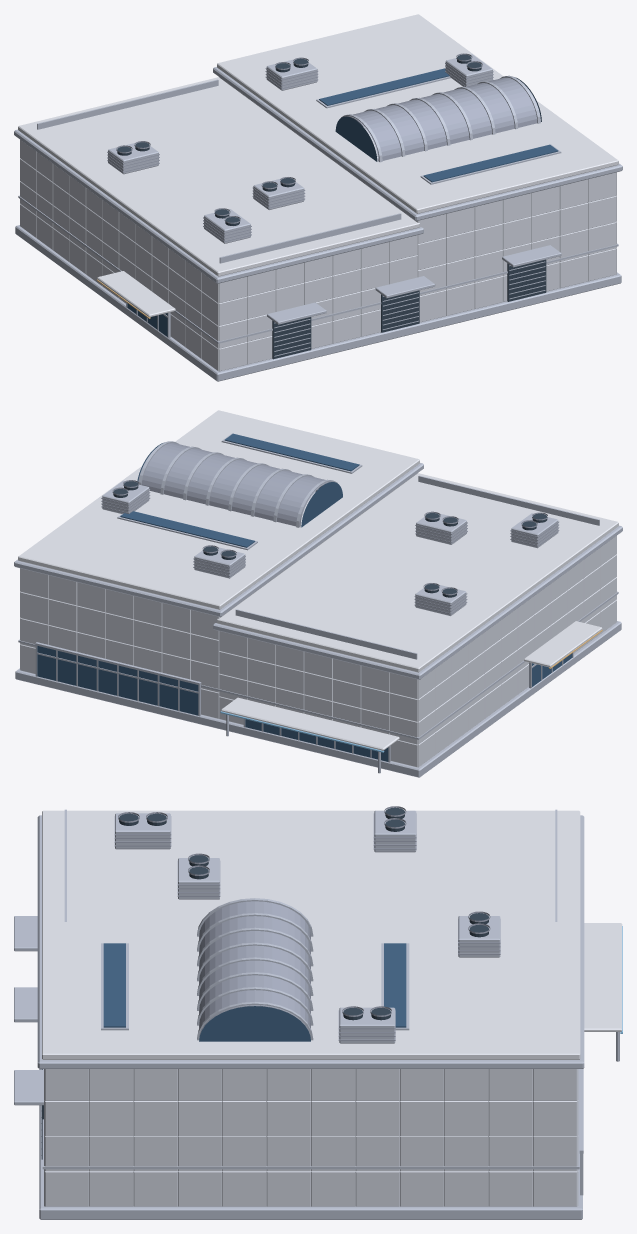
The model's file is south-building.glb.
The picture shows the model from 3 angles, top to bottom: view 1: azimuth 30°, elevation 25°; view 2: azimuth 150°, elevation 25°; view 3: azimuth 270°, elevation 25°; orthographic projection. The views are drawn at different scales.
Parts seen in each view (by area): view 1: south-building_white, south-building_panel, south-building_silver, south-building_roof, south-building_dark, south-building_glass; view 2: south-building_white, south-building_panel, south-building_silver, south-building_roof, south-building_glass, south-building_dark; view 3: south-building_white, south-building_panel, south-building_silver, south-building_roof, south-building_glass, south-building_dark.
Boxes of the visible parts, box(x1,y1,x2,y2) form: south-building_white: box(18, 14, 618, 371); south-building_panel: box(20, 140, 616, 371); south-building_silver: box(14, 54, 622, 381); south-building_roof: box(107, 53, 540, 241); south-building_dark: box(117, 54, 546, 359); south-building_glass: box(127, 68, 558, 336); south-building_white: box(18, 410, 618, 767); south-building_panel: box(20, 536, 616, 767); south-building_silver: box(14, 433, 622, 777); south-building_roof: box(101, 443, 559, 614); south-building_glass: box(37, 433, 572, 761); south-building_dark: box(113, 481, 547, 597); south-building_white: box(42, 810, 622, 1059); south-building_panel: box(44, 1069, 578, 1206); south-building_silver: box(14, 809, 619, 1219); south-building_roof: box(114, 806, 500, 1040); south-building_glass: box(103, 943, 406, 1041); south-building_dark: box(41, 807, 488, 1159).
Bounding box in the file's own units: 47.6 × 15.9 × 43.45.
